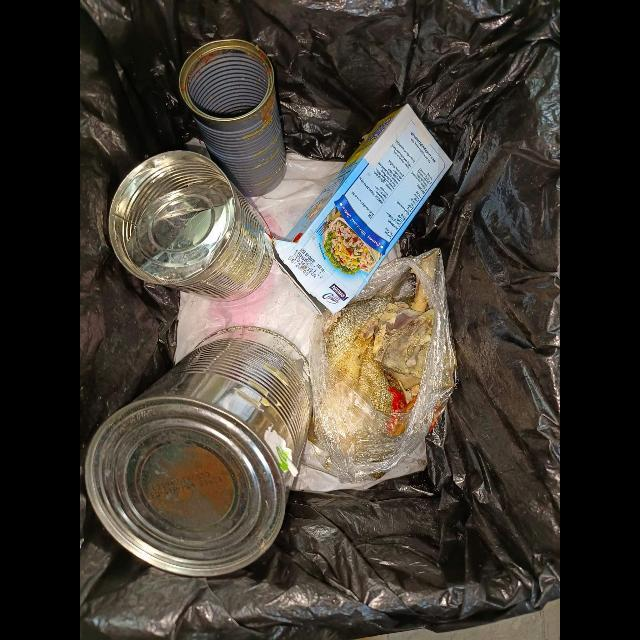biowaste: (327, 273, 435, 414)
metal: (84, 326, 312, 578), (108, 150, 274, 298), (179, 39, 287, 198)
paper: (264, 104, 452, 316)
plastic: (309, 250, 460, 482)
